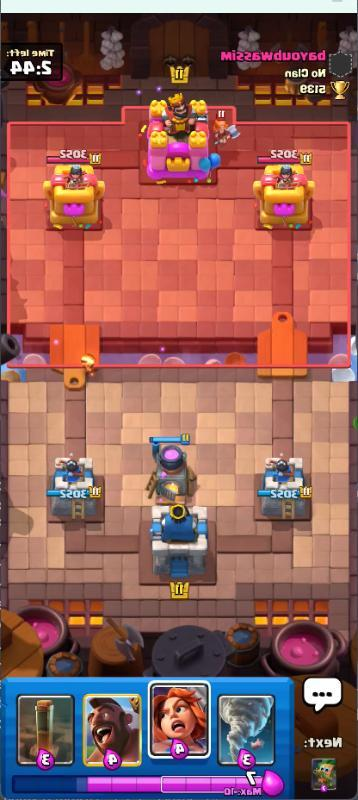enemy_valkyrie: (210, 108, 243, 150)
